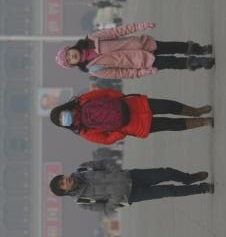person: (47, 88, 214, 145), (56, 22, 215, 81), (49, 158, 216, 212), (39, 90, 73, 110), (90, 146, 126, 159), (88, 79, 124, 90), (93, 16, 121, 28), (85, 1, 128, 8)
